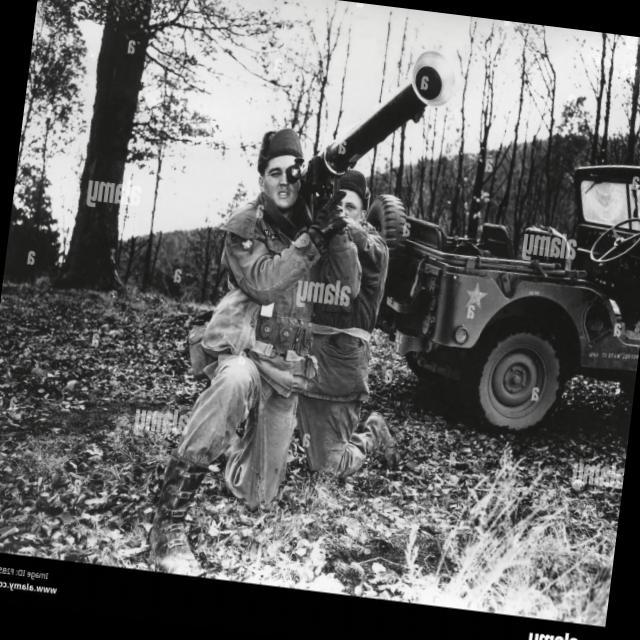rocket: (311, 31, 447, 199)
